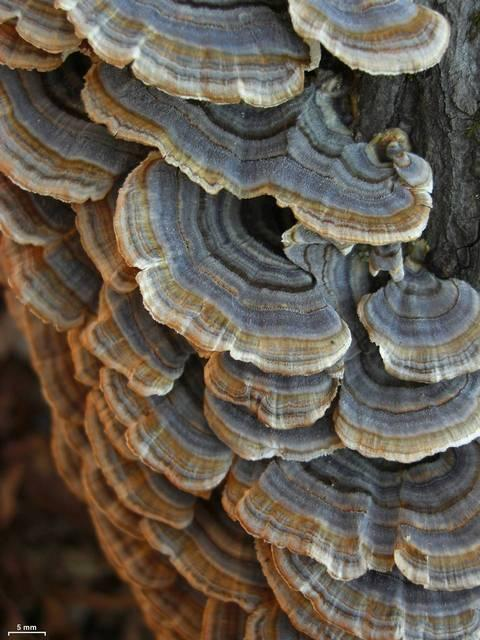Non-edible Mushroom: (0, 0, 479, 639), (285, 0, 451, 77)
